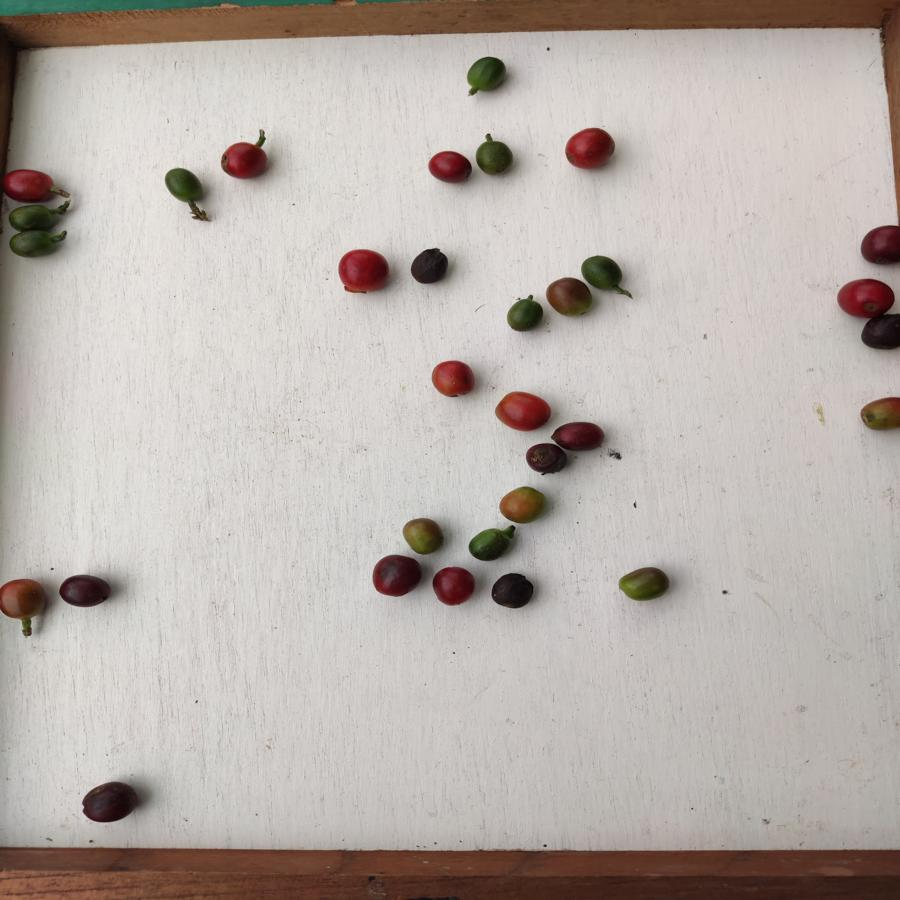Inmaduro: (581, 252, 626, 294), (162, 166, 208, 206), (474, 138, 515, 178), (467, 527, 513, 562), (8, 232, 62, 261), (466, 55, 508, 92), (3, 207, 62, 232), (506, 297, 544, 334)
Maduro: (835, 276, 898, 320), (493, 390, 552, 434), (337, 248, 392, 294), (564, 126, 618, 172), (216, 141, 273, 181), (429, 358, 480, 399), (2, 166, 56, 201), (425, 150, 472, 184)
Pinton: (1, 574, 50, 623), (617, 565, 674, 602), (498, 486, 550, 526), (545, 276, 595, 317), (399, 517, 446, 557), (859, 395, 900, 432)
Sobremaduro: (79, 780, 140, 824), (371, 554, 422, 599), (431, 566, 477, 610), (57, 574, 113, 610), (551, 418, 606, 452), (858, 224, 900, 265), (490, 573, 536, 608), (409, 245, 449, 285), (859, 315, 900, 354), (523, 440, 569, 474)
